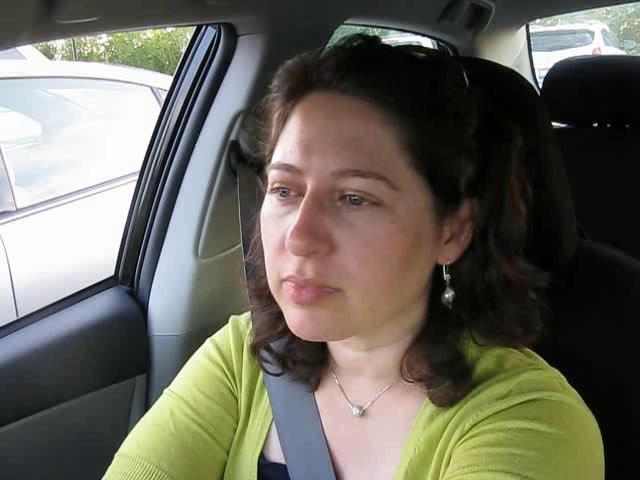no_yawn: (265, 266, 353, 310)
open_eyeL: (255, 171, 308, 211)
open_eyeR: (323, 181, 399, 219)
